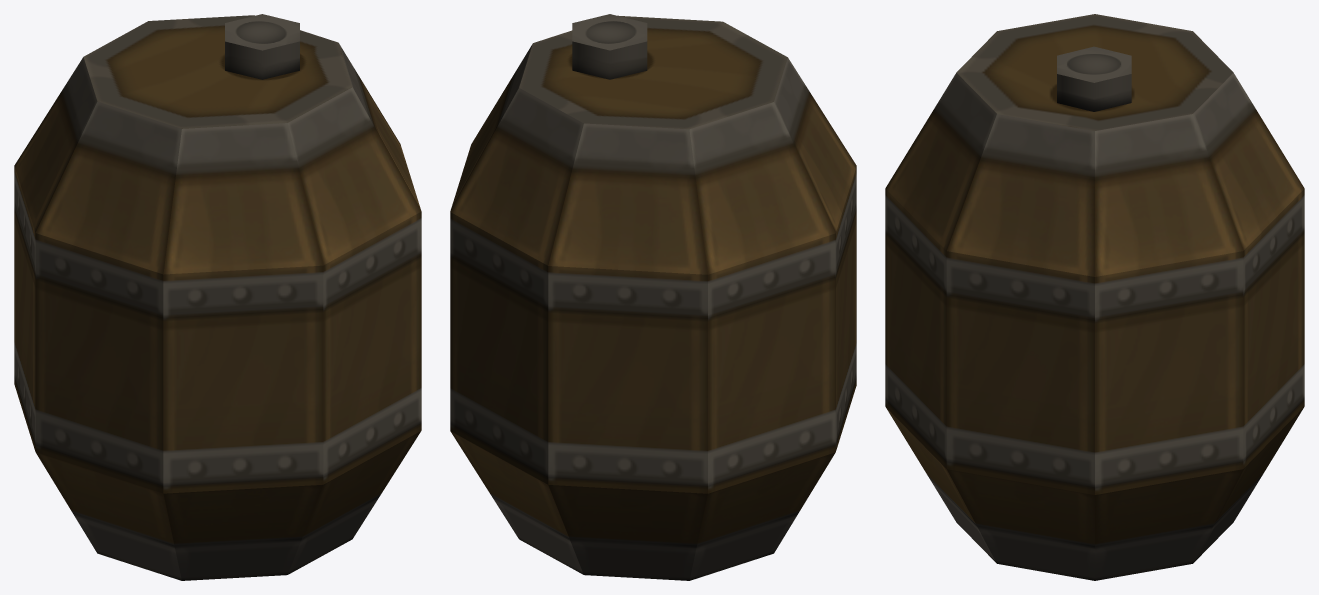
Rendered from drum.FBX.
The picture shows the model from 3 angles, left to right: view 1: azimuth 30°, elevation 25°; view 2: azimuth 150°, elevation 25°; view 3: azimuth 270°, elevation 25°; orthographic projection.
Parts seen in each view (by area): view 1: drum; view 2: drum; view 3: drum.
Part boxes in pixels (left/top/right/bottom): drum: left=14, top=14, right=421, bottom=580; drum: left=450, top=14, right=856, bottom=580; drum: left=885, top=14, right=1304, bottom=580.
Bounding box in the file's own units: 14.18 × 17.88 × 14.18.
1 material, 1 textured.
